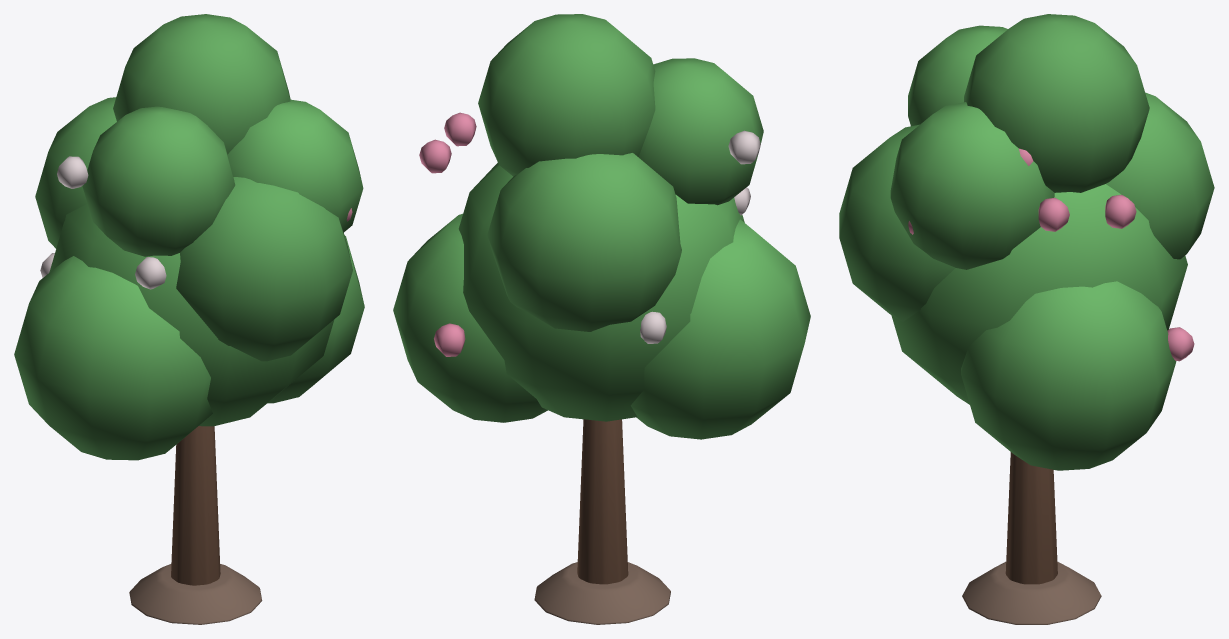
Rendered from prop_tree_c.glb.
3 renders of one model, left to right at view 1: azimuth 30°, elevation 25°; view 2: azimuth 150°, elevation 25°; view 3: azimuth 270°, elevation 25°, orthographic. The views are drawn at different scales.
Visible parts, largest first — view 1: prop_tree_c; view 2: prop_tree_c; view 3: prop_tree_c.
Part boxes in pixels (x1,y1,x2,y2): prop_tree_c: [14, 14, 364, 624]; prop_tree_c: [393, 14, 810, 624]; prop_tree_c: [839, 14, 1214, 624].
Bounding box in the file's own units: 3.63 × 5.59 × 3.24.
